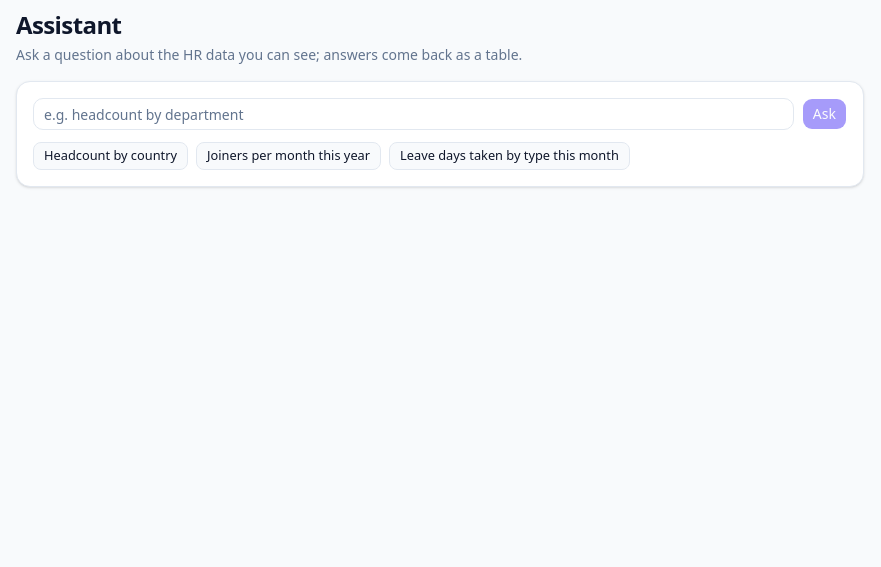
Test case: AssistantPage › shows each answer as a table, newest first
Type "headcount by country" into the field named "Question" at (413, 114), box [33,98,794,130]
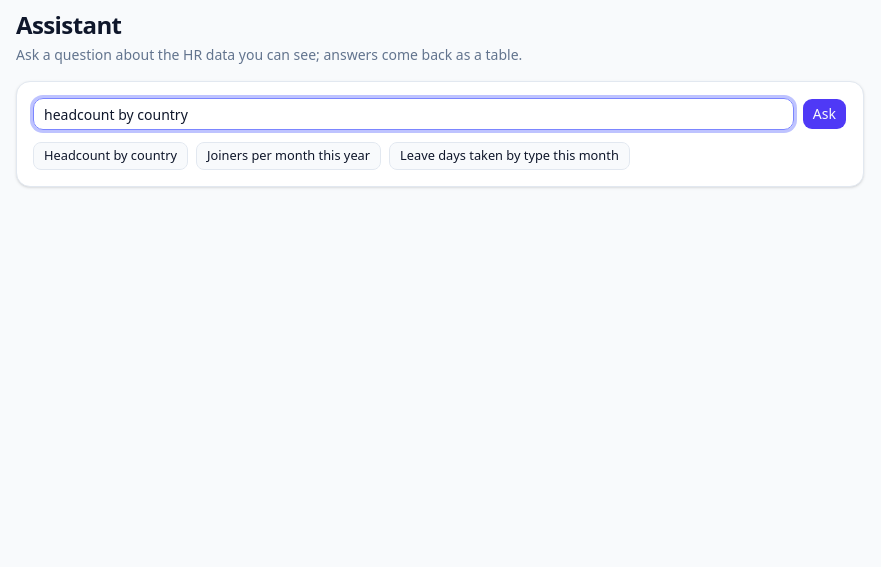
Click the button "Ask" at (824, 114), box [802,98,847,130]
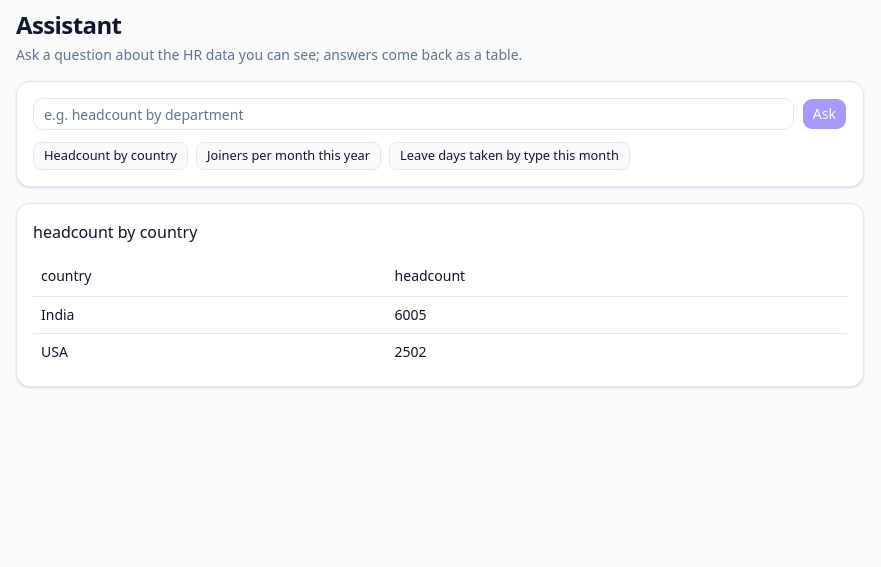
expect the row "India 6005" is shown: met, box [33,296,847,333]
Type "total employees" into the field named "Question" at (413, 114), box [33,98,794,130]
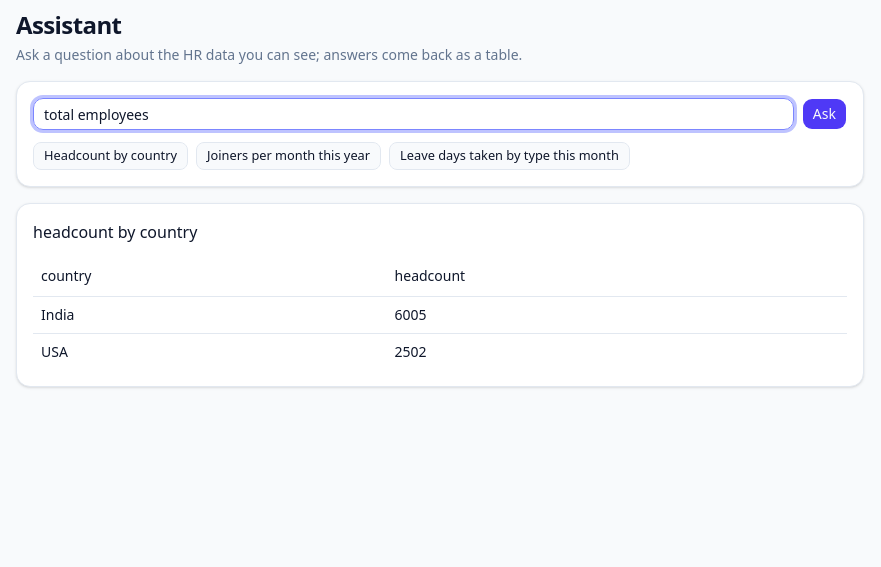
Click the button "Ask" at (824, 114), box [802,98,847,130]
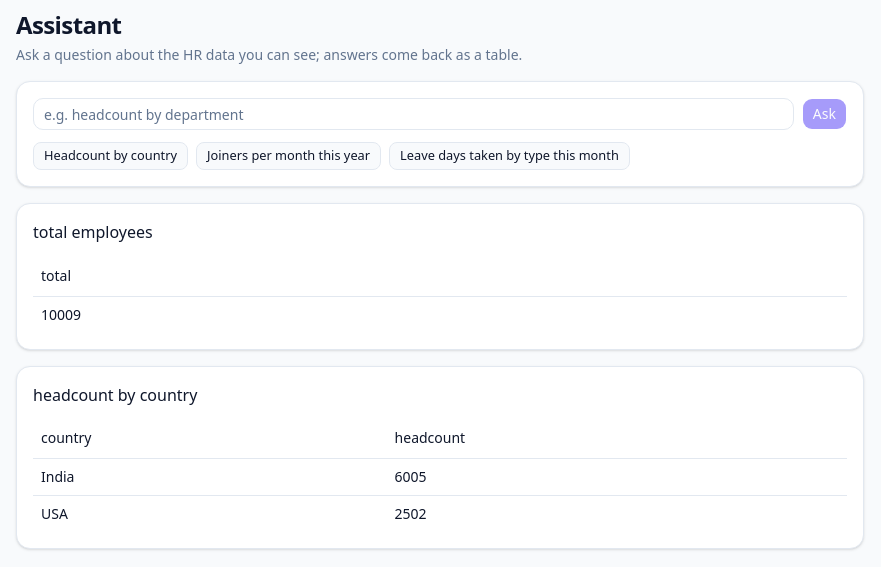
expect the text "headcount by country" is shown: met, box [33,382,197,406]
expect the text "total employees" is shown: met, box [33,220,153,244]
expect the row "10009" is shown: met, box [33,296,847,332]
